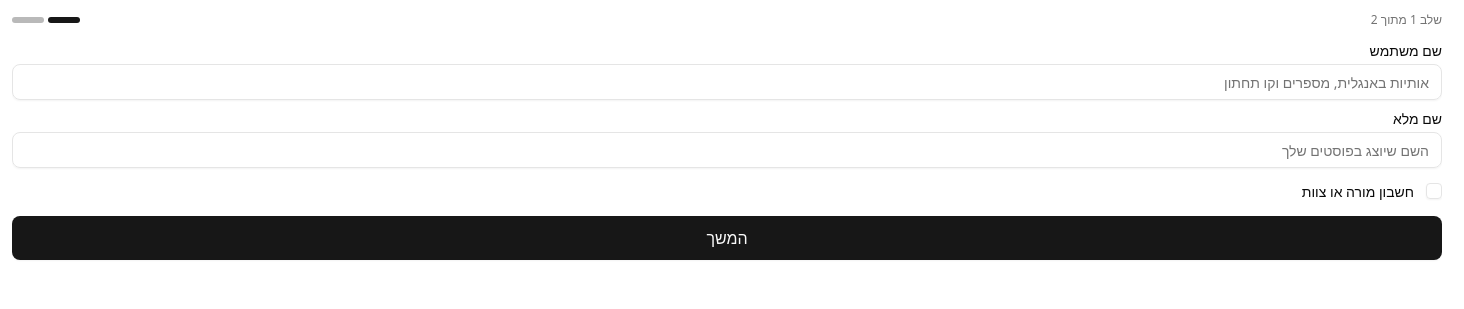
Test: RegisterForm mobile interactions › moves teacher registration into a compact second step
Expected: the field labelled "סיסמת צוות מאשרת" is not shown
Step 1. Type "teacher_1" into the field labelled "שם משתמש" → [727, 82], box x1=12 y1=64 x2=1442 y2=100
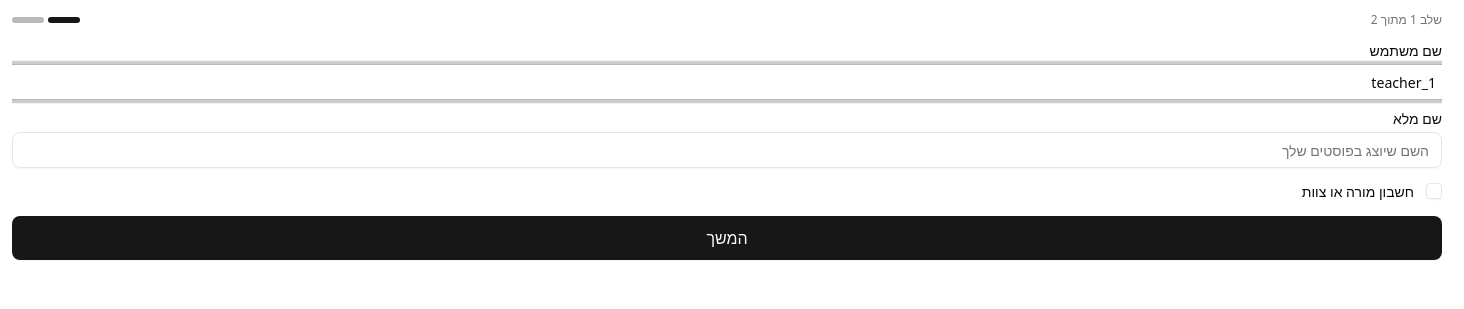
Step 2. Type "מורה בדיקה" into the field labelled "שם מלא" → [727, 150], box x1=12 y1=132 x2=1442 y2=168
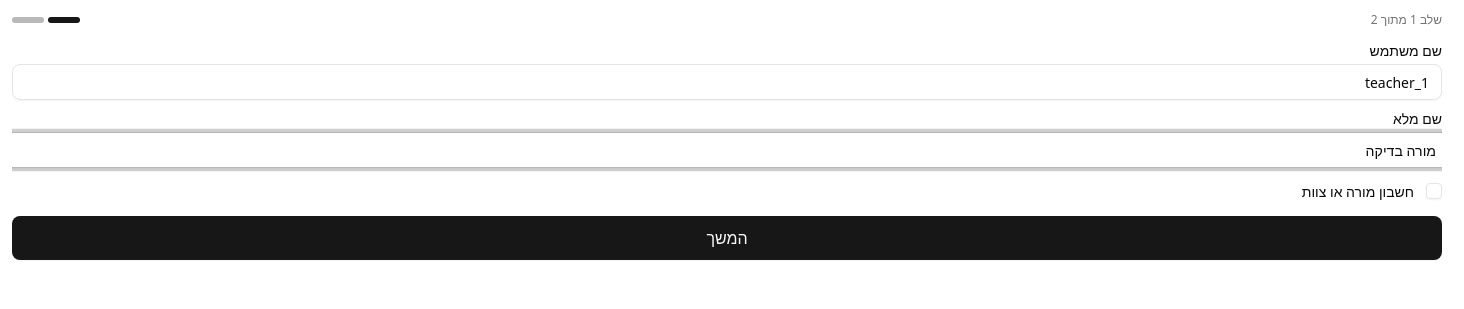
Step 3. Click the checkbox named "חשבון מורה או צוות" → [1434, 191], box x1=1426 y1=183 x2=1442 y2=199
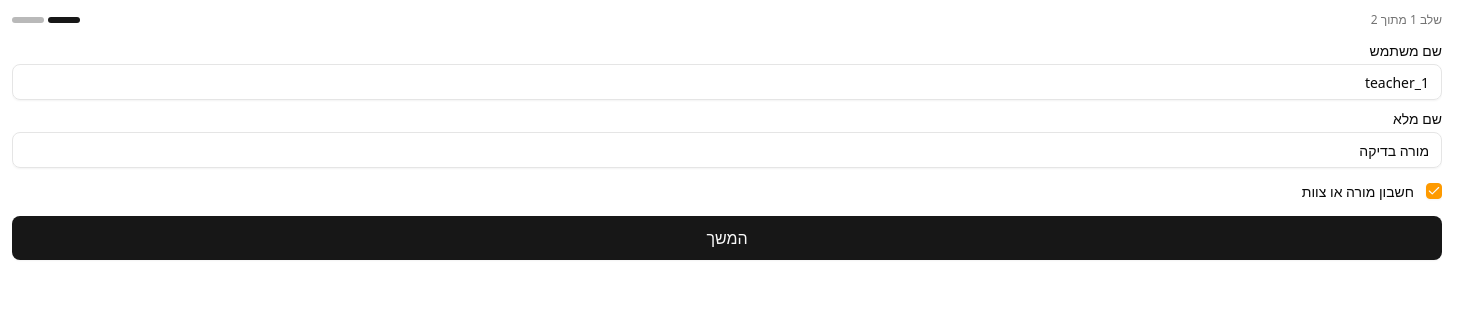
Step 4. Click the button "המשך" → [727, 238], box x1=12 y1=216 x2=1442 y2=260
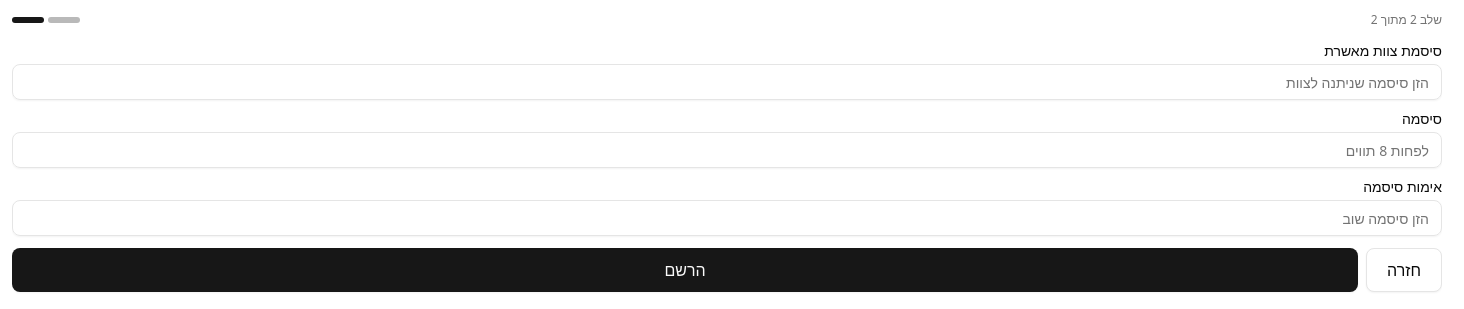
Now the text "שלב 2 מתוך 2" is shown, box x1=1371 y1=12 x2=1442 y2=28
Now the password field labelled "סיסמת צוות מאשרת" is shown, box x1=12 y1=64 x2=1442 y2=100
Now the button "חזרה" is shown, box x1=1366 y1=248 x2=1442 y2=292
